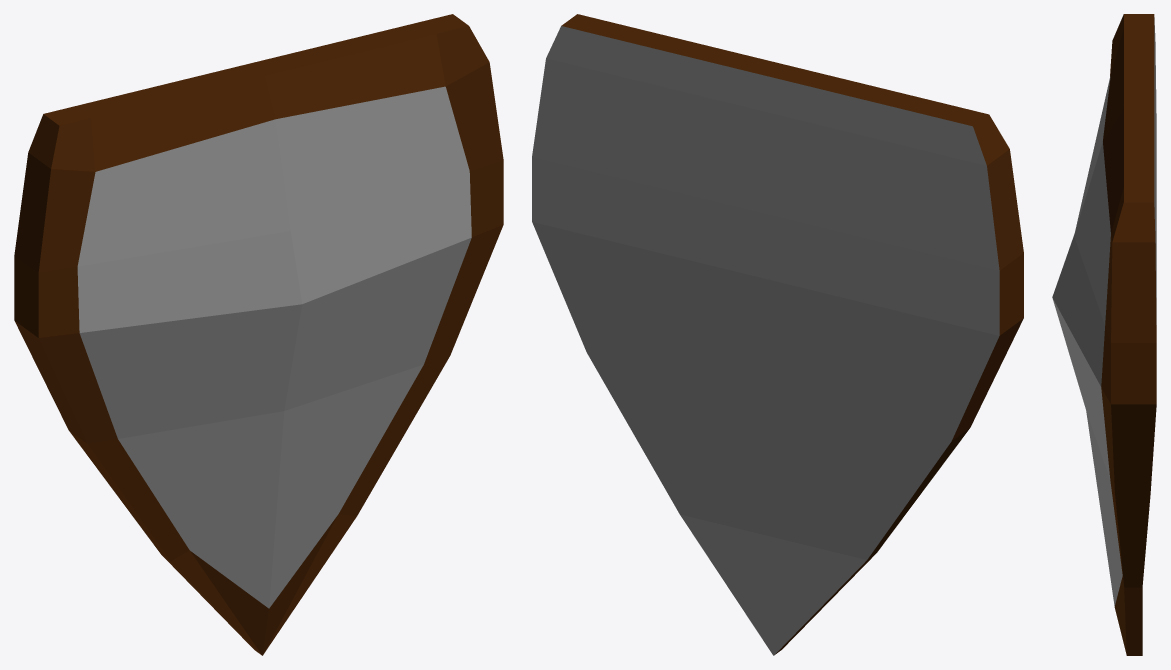
File: shield_kite.obj
3 renders of one model, left to right at view 1: azimuth 30°, elevation 25°; view 2: azimuth 150°, elevation 25°; view 3: azimuth 270°, elevation 25°, orthographic. The views are drawn at different scales.
Parts seen in each view (by area): view 1: shield_kite_Cube.053; view 2: shield_kite_Cube.053; view 3: shield_kite_Cube.053.
Boxes of the visible parts, x1,y1,x2,y2 form: shield_kite_Cube.053: [14, 14, 503, 655]; shield_kite_Cube.053: [532, 14, 1023, 655]; shield_kite_Cube.053: [1052, 14, 1156, 655].
Bounding box in the file's own units: 0.194 × 0.2317 × 0.04.
